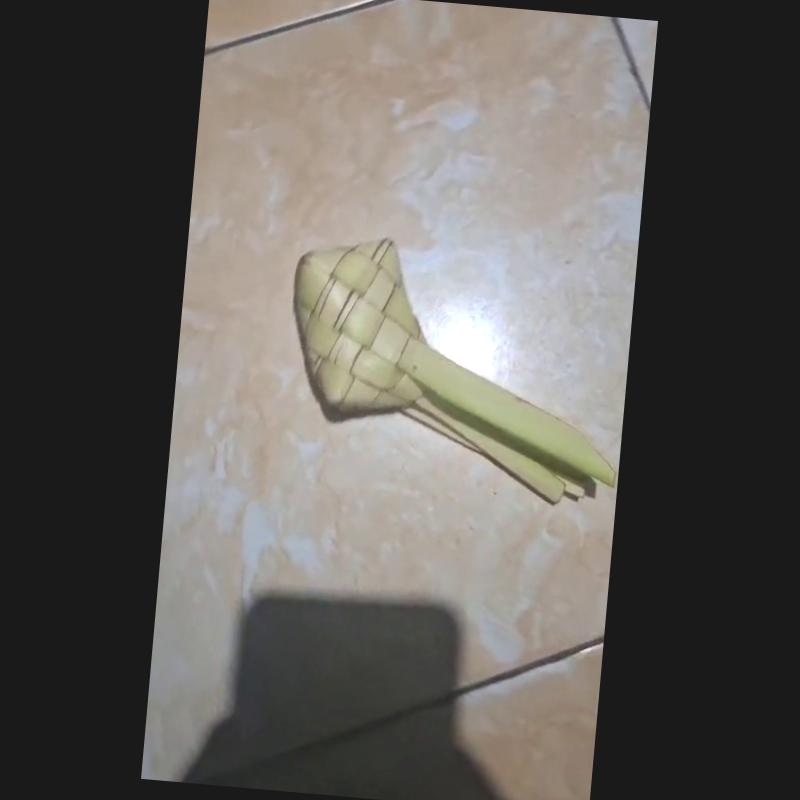Tipat Bantal: (304, 235, 620, 507)
